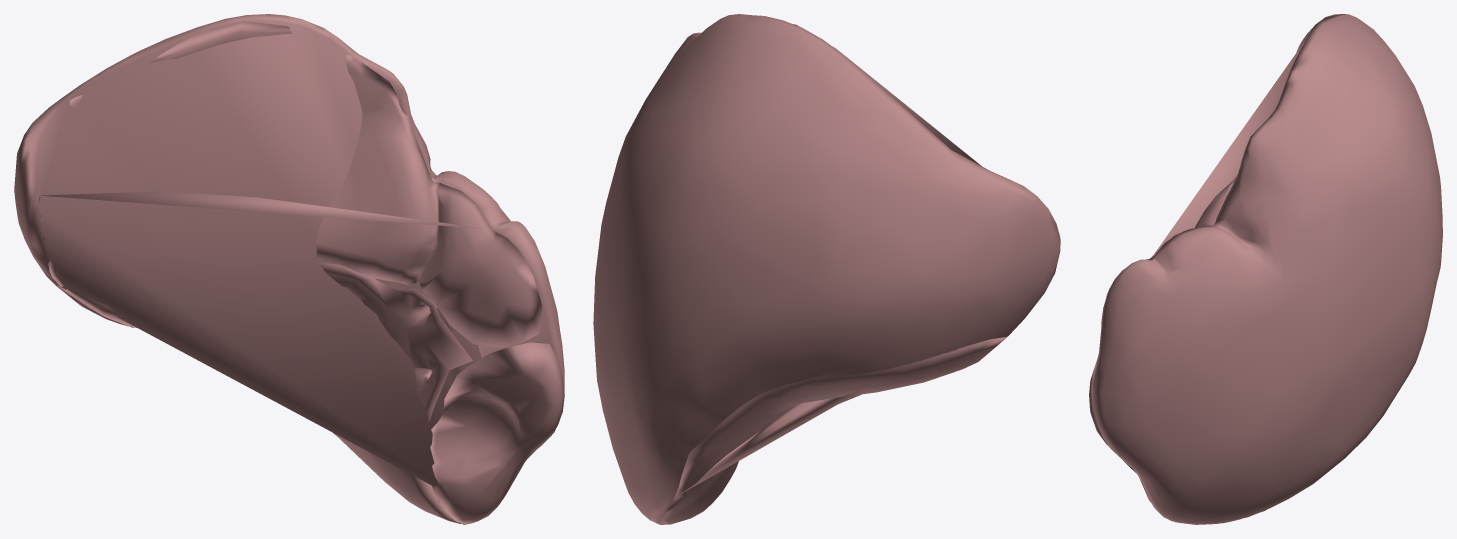
File: vh_m_spleen-20.glb
The picture shows the model from 3 angles, left to right: view 1: azimuth 30°, elevation 25°; view 2: azimuth 150°, elevation 25°; view 3: azimuth 270°, elevation 25°; orthographic projection. The views are drawn at different scales.
Parts seen in each view (by area): view 1: VH_M_diaphragmatic_surface_of_spleen, VH_M_gastric_surface_of_spleen, VH_M_colic_surface_of_spleen, VH_M_hilum_of_spleen, VH_M_renal_surface_of_spleen; view 2: VH_M_diaphragmatic_surface_of_spleen, VH_M_renal_surface_of_spleen, VH_M_gastric_surface_of_spleen; view 3: VH_M_diaphragmatic_surface_of_spleen, VH_M_gastric_surface_of_spleen.
Boxes of the visible parts, x1,y1,x2,y2 form: VH_M_diaphragmatic_surface_of_spleen: [14, 14, 564, 524]; VH_M_gastric_surface_of_spleen: [38, 21, 542, 348]; VH_M_colic_surface_of_spleen: [430, 342, 564, 524]; VH_M_hilum_of_spleen: [48, 260, 472, 421]; VH_M_renal_surface_of_spleen: [48, 278, 461, 523]; VH_M_diaphragmatic_surface_of_spleen: [593, 14, 1060, 524]; VH_M_renal_surface_of_spleen: [658, 337, 1006, 524]; VH_M_gastric_surface_of_spleen: [794, 24, 980, 165]; VH_M_diaphragmatic_surface_of_spleen: [1092, 14, 1442, 524]; VH_M_gastric_surface_of_spleen: [1101, 20, 1321, 325].
Bounding box in the file's own units: 0.1105 × 0.1186 × 0.0886.
